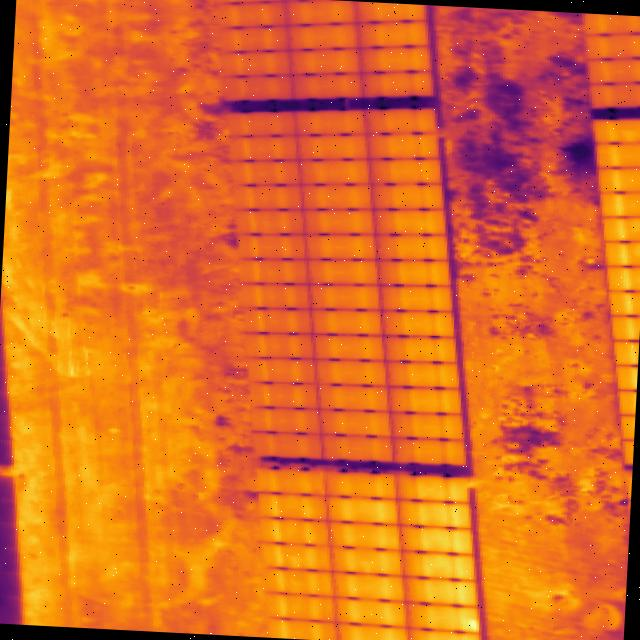Hotspot: (460, 616, 480, 632)
